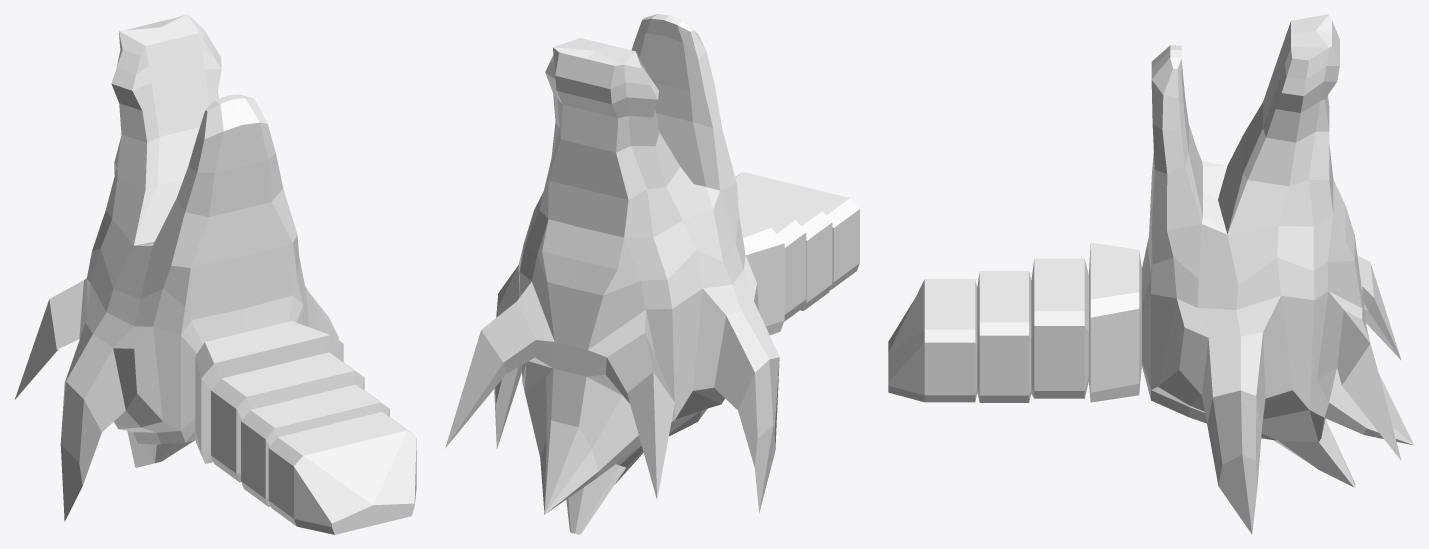
The model's file is head_50.fbx.
3 renders of one model, left to right at view 1: azimuth 30°, elevation 25°; view 2: azimuth 150°, elevation 25°; view 3: azimuth 270°, elevation 25°, orthographic. The views are drawn at different scales.
Visible parts, largest first — view 1: Cube.206; view 2: Cube.206; view 3: Cube.206.
Boxes of the visible parts, left/top/right/bottom form: Cube.206: left=14, top=14, right=416, bottom=534; Cube.206: left=445, top=14, right=859, bottom=534; Cube.206: left=888, top=14, right=1414, bottom=534.
Bounding box in the file's own units: 122 × 195 × 205.
